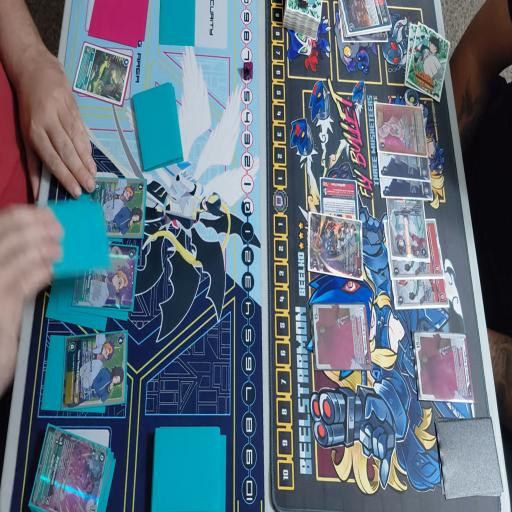card: (29, 424, 108, 512), (62, 328, 129, 416), (72, 242, 141, 308), (414, 332, 473, 404), (311, 305, 370, 374), (70, 44, 135, 105), (86, 178, 151, 238), (386, 216, 444, 282), (374, 99, 428, 161), (306, 218, 361, 278), (386, 192, 429, 263), (390, 276, 450, 314), (377, 144, 431, 181), (341, 0, 389, 39), (322, 180, 359, 218), (381, 178, 435, 196)
